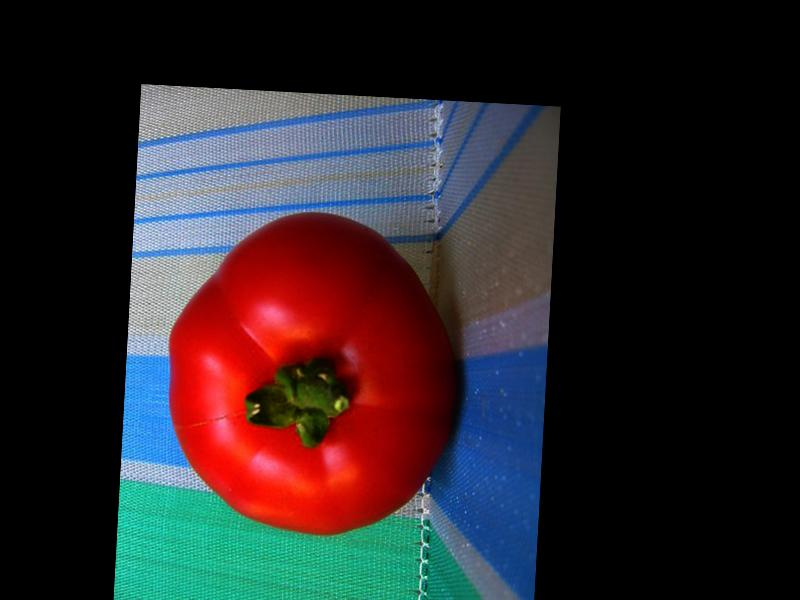Tomato: (159, 207, 467, 541)
